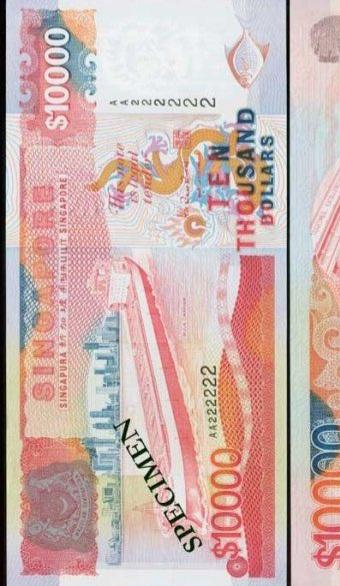10000SingaporeDollar: (8, 2, 284, 584)
